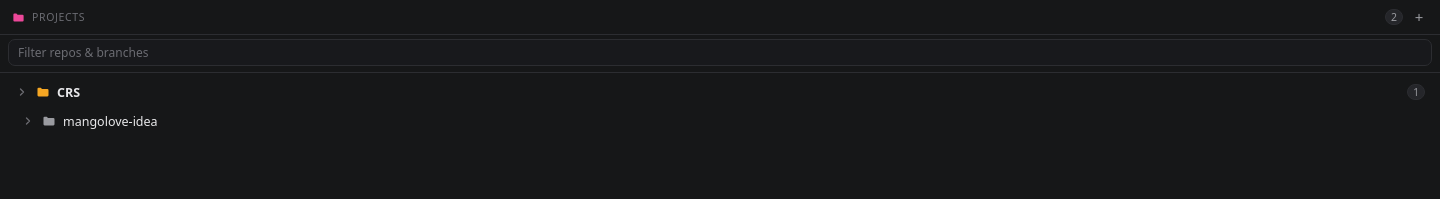
<ProjectTree> › roving falls back to the first visible row when the roving row is filtered out
Type "crs" into the search field with test id "project-filter".
click(720, 52); type("crs")  # box top-left (8, 39), bottom-right (1432, 66)
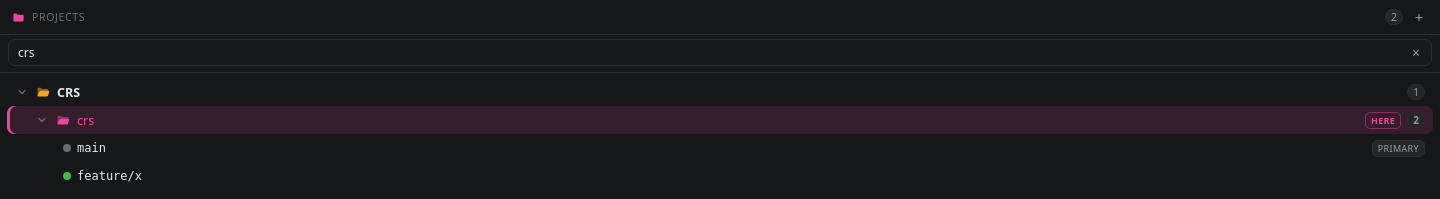
expect the list item with test id "repo-node-mangolove-idea" is gone: met
